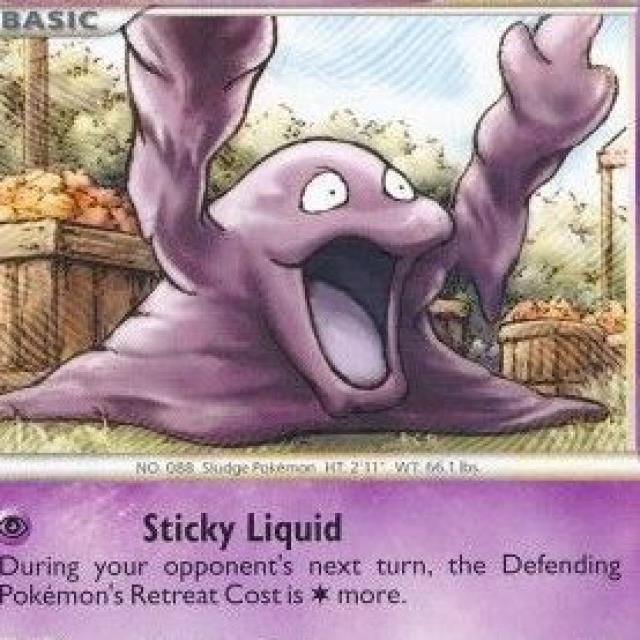Grimer: (53, 15, 616, 450)
